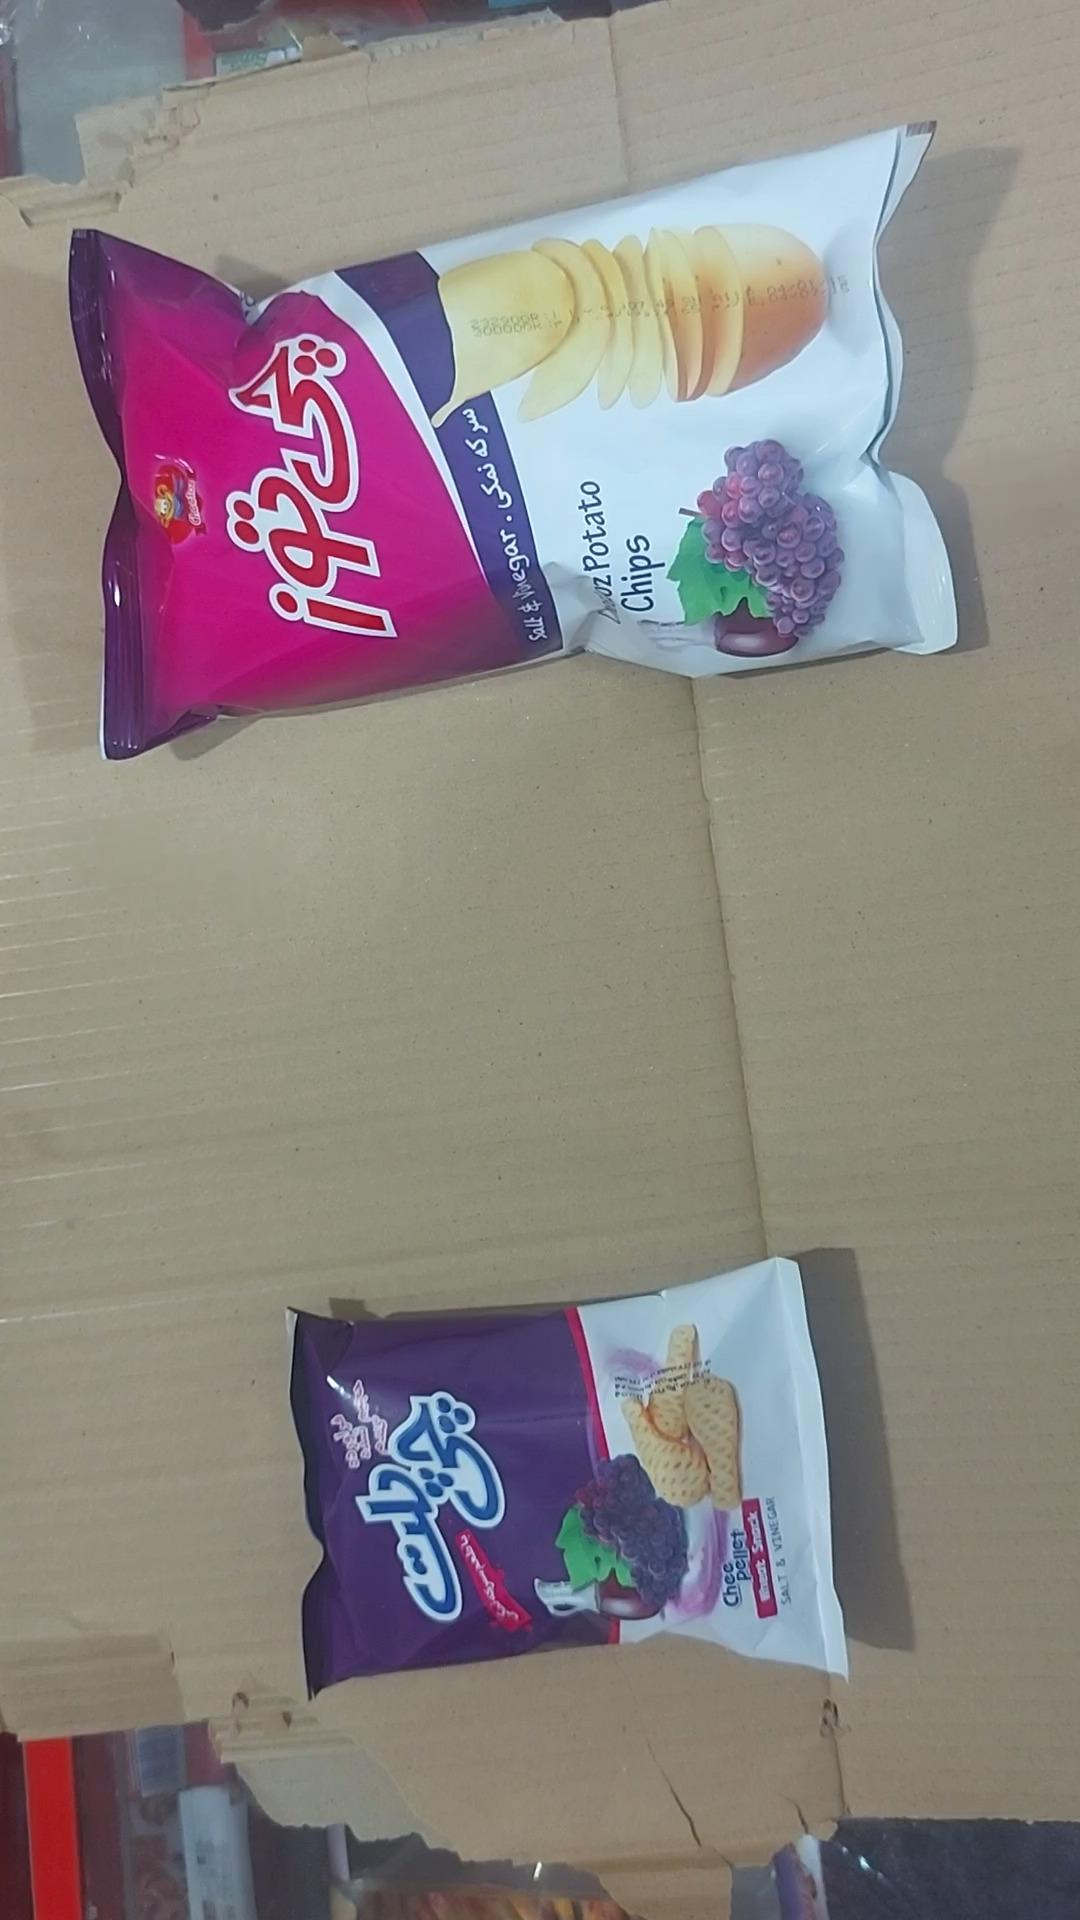Chee pellet vinegar: (289, 1259, 847, 1696)
Cheetoz vinegar chips: (70, 127, 959, 760)
